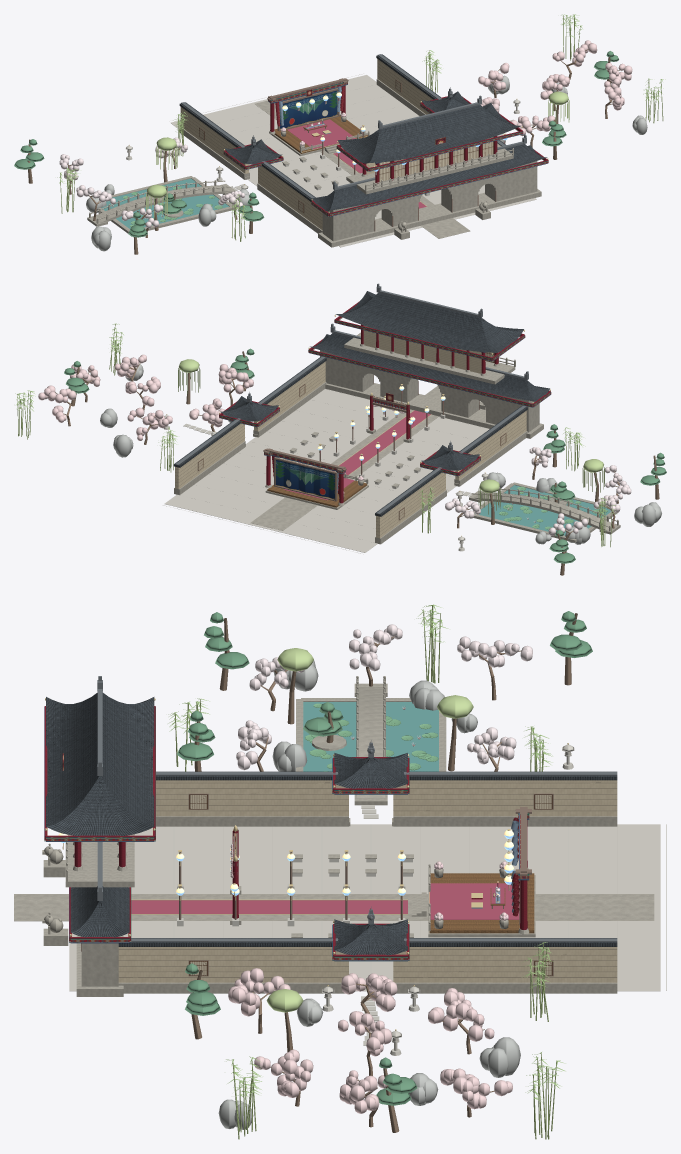
Rendered from compound.glb.
The picture shows the model from 3 angles, top to bottom: view 1: azimuth 30°, elevation 25°; view 2: azimuth 150°, elevation 25°; view 3: azimuth 270°, elevation 25°; orthographic projection. The views are drawn at different scales.
Visible parts, largest first — view 1: palace_gate, courtyard, walls, garden_east, wedding_stage, garden_trees, garden_west_water, stone_bridge, garden_rocks, garden_east_rocks, haetae, pond_island; view 2: courtyard, palace_gate, walls, garden_east, garden_trees, wedding_stage, garden_west_water, stone_bridge, garden_rocks, lantern_posts, hongsalmun, garden_east_rocks (+2 smaller); view 3: courtyard, walls, palace_gate, garden_east, garden_trees, wedding_stage, garden_west_water, garden_east_rocks, stone_bridge, garden_rocks, lantern_posts, pond_island (+4 smaller).
Part boxes in pixels (x1=…): palace_gate: x1=311, y1=95, x2=548, y2=247; courtyard: x1=169, y1=73, x2=536, y2=247; walls: x1=179, y1=54, x2=506, y2=233; garden_east: x1=422, y1=14, x2=665, y2=159; wedding_stage: x1=267, y1=78, x2=369, y2=156; garden_trees: x1=14, y1=111, x2=264, y2=254; garden_west_water: x1=97, y1=176, x2=234, y2=233; stone_bridge: x1=87, y1=180, x2=235, y2=226; garden_rocks: x1=86, y1=184, x2=249, y2=251; garden_east_rocks: x1=488, y1=75, x2=647, y2=143; haetae: x1=394, y1=201, x2=490, y2=239; pond_island: x1=161, y1=193, x2=186, y2=217; courtyard: x1=162, y1=386, x2=489, y2=554; palace_gate: x1=308, y1=283, x2=551, y2=438; walls: x1=173, y1=356, x2=527, y2=544; garden_east: x1=15, y1=323, x2=254, y2=472; garden_trees: x1=419, y1=424, x2=666, y2=575; wedding_stage: x1=263, y1=448, x2=368, y2=509; garden_west_water: x1=473, y1=482, x2=619, y2=542; stone_bridge: x1=469, y1=487, x2=620, y2=534; garden_rocks: x1=487, y1=472, x2=661, y2=544; lantern_posts: x1=317, y1=384, x2=445, y2=477; hongsalmun: x1=365, y1=392, x2=415, y2=442; garden_east_rocks: x1=100, y1=363, x2=231, y2=457; courtyard: x1=14, y1=824, x2=666, y2=991; walls: x1=118, y1=740, x2=617, y2=993; palace_gate: x1=44, y1=676, x2=155, y2=996; garden_east: x1=185, y1=942, x2=565, y2=1139; garden_trees: x1=168, y1=604, x2=592, y2=771; wedding_stage: x1=411, y1=807, x2=535, y2=937; garden_west_water: x1=296, y1=698, x2=446, y2=771; garden_east_rocks: x1=218, y1=998, x2=520, y2=1129; stone_bridge: x1=354, y1=676, x2=387, y2=805; garden_rocks: x1=272, y1=660, x2=477, y2=771; lantern_posts: x1=176, y1=850, x2=405, y2=926; pond_island: x1=303, y1=702, x2=346, y2=750.
Bounding box in the file's own units: 91.31 × 18.04 × 53.03.
Materials: 30 (10 with a texture image).
